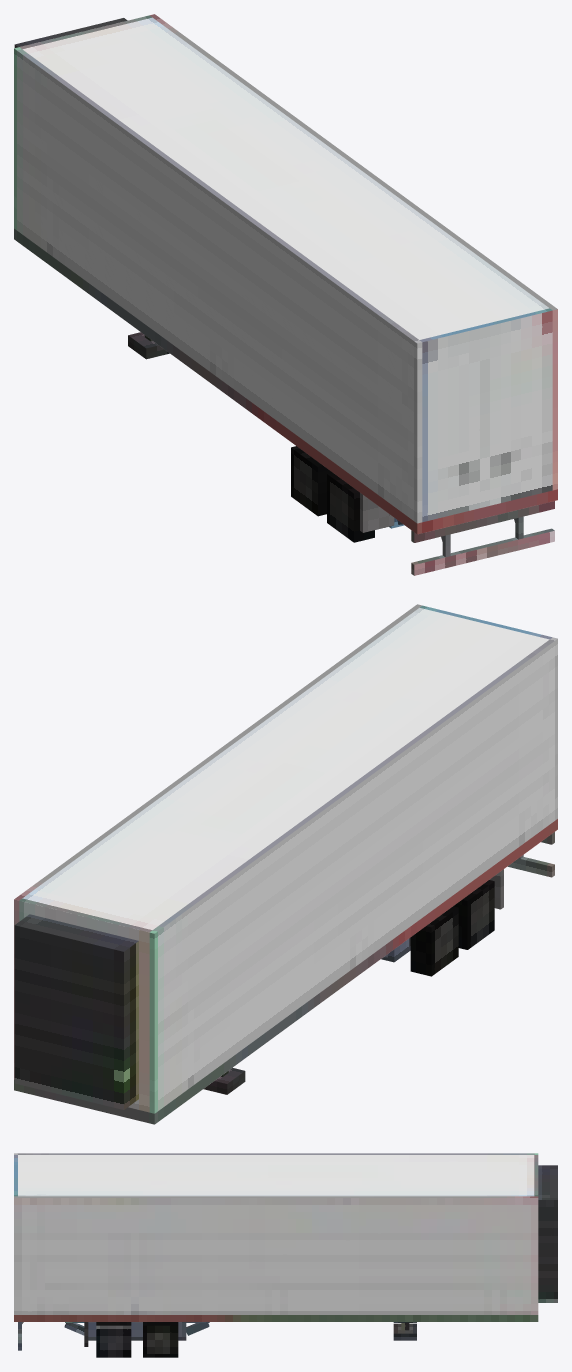
File: reefer-trailer.lod1.glb
3 views of the same model, one above another, from view 1: azimuth 30°, elevation 25°; view 2: azimuth 150°, elevation 25°; view 3: azimuth 270°, elevation 25° (orthographic). The views are drawn at different scales.
Visible parts, largest first — view 1: Object_5; view 2: Object_5; view 3: Object_5.
Part boxes in pixels (x1,y1,x2,y2): Object_5: [14, 14, 557, 575]; Object_5: [14, 604, 557, 1124]; Object_5: [14, 1153, 557, 1357].
Size of the model in its own units: 2.62 by 4.37 by 13.5.
1 material, 1 textured.
